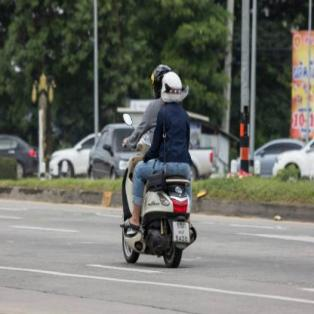Motocicleta: (115, 124, 197, 270)
